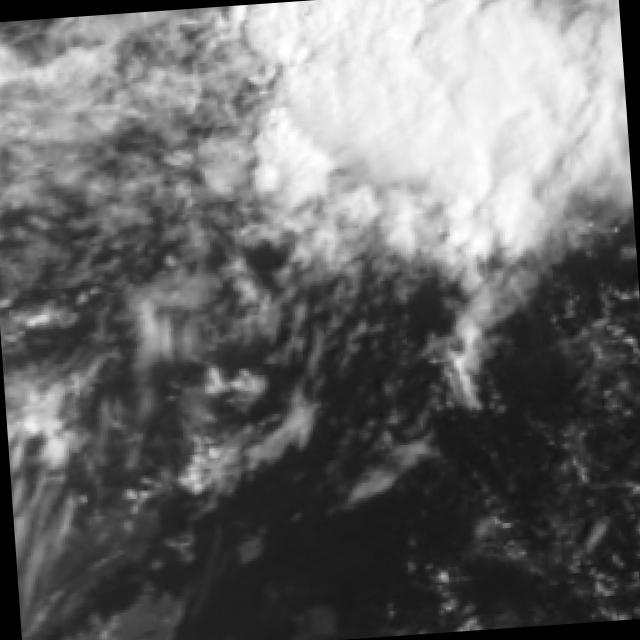CB: (332, 10, 566, 167)
